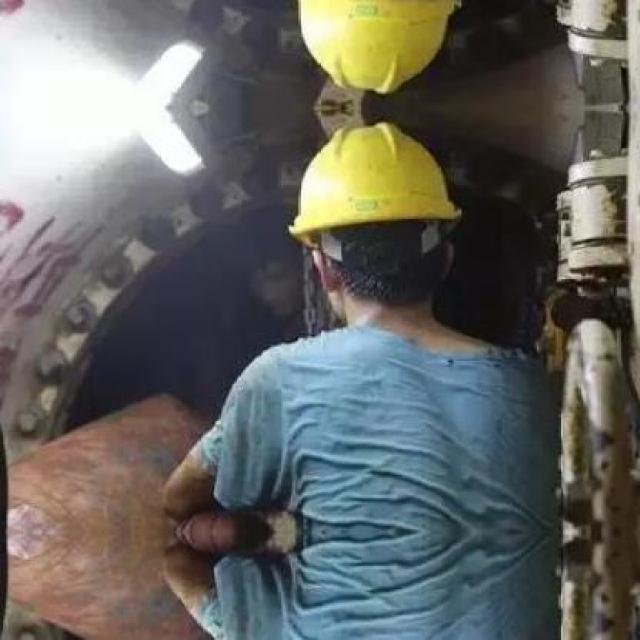helmet: (276, 115, 470, 340), (275, 0, 471, 102)
